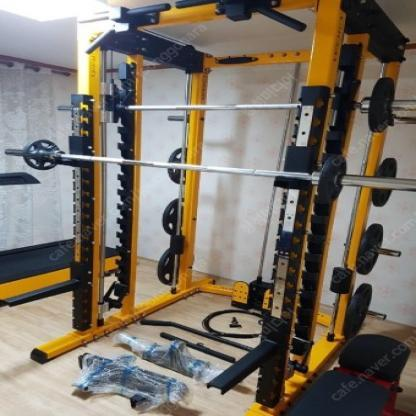smith machine: (58, 0, 410, 416)
